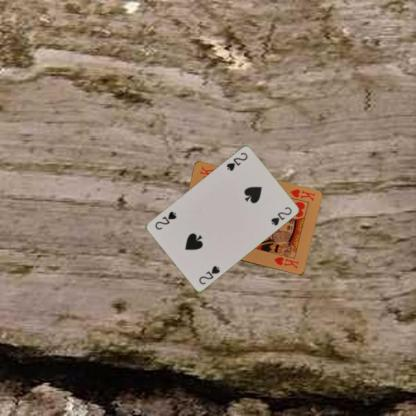2s: (224, 150, 249, 172), (196, 263, 221, 285)
Kh: (288, 186, 316, 202)
